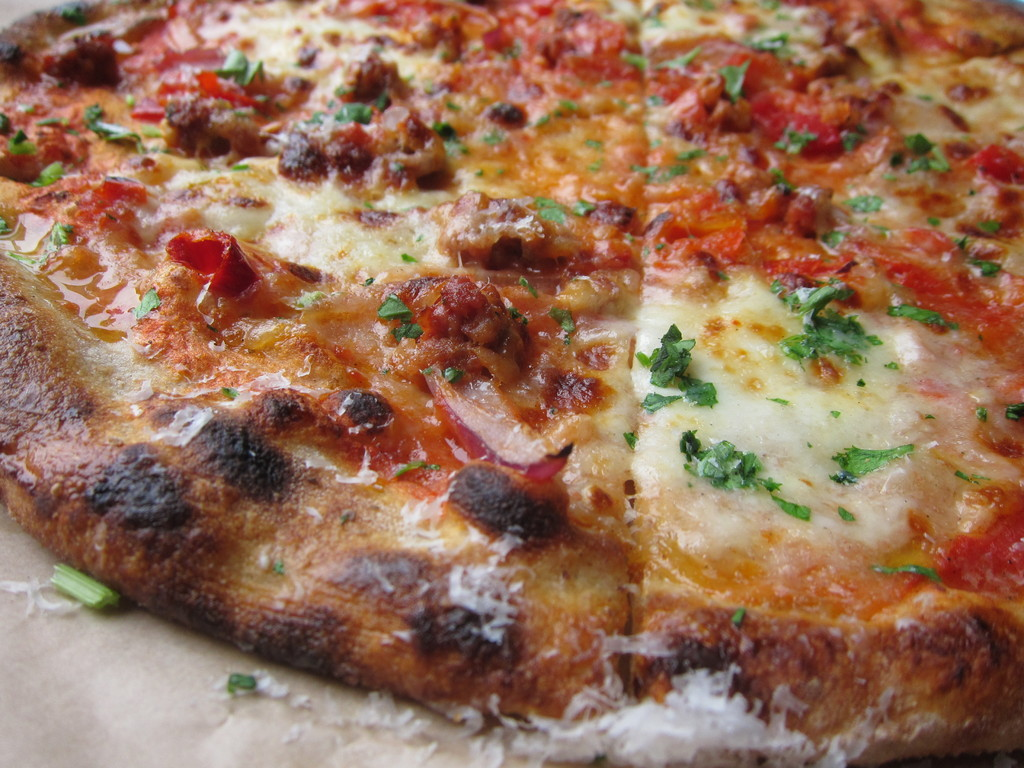pizza: (7, 0, 1024, 768)
